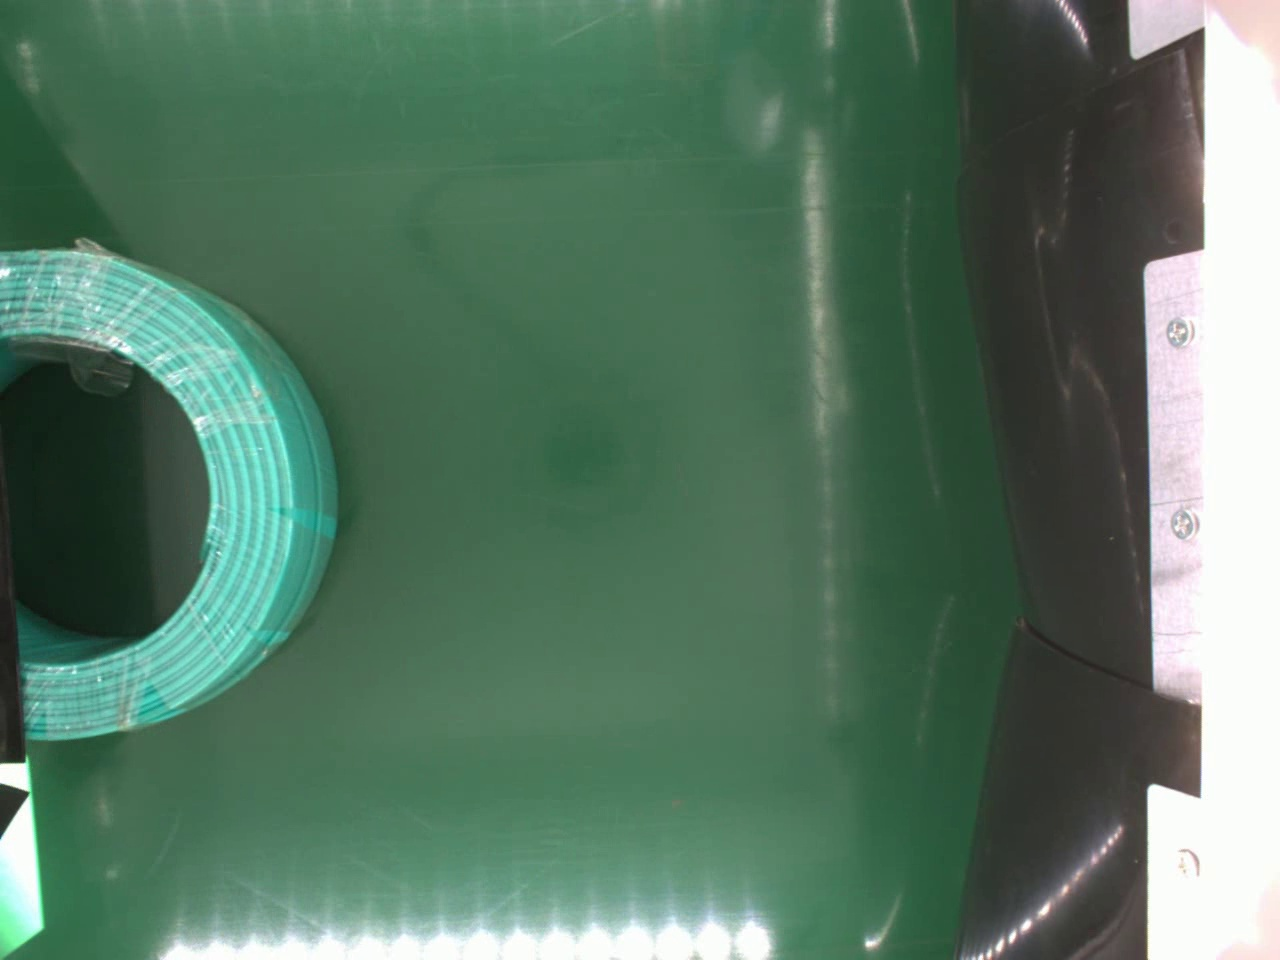green: (0, 242, 345, 737)
